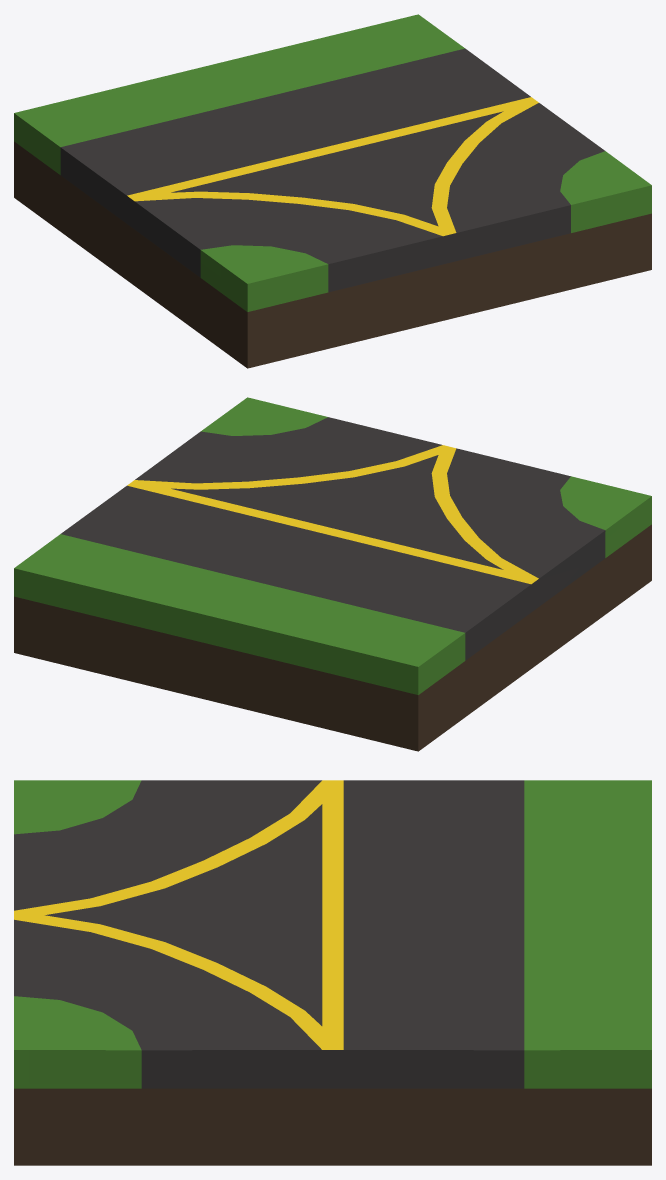
The model's file is tiles_tile-runway-intersection-t.fbx.
3 views of the same model, one above another, from view 1: azimuth 30°, elevation 25°; view 2: azimuth 150°, elevation 25°; view 3: azimuth 270°, elevation 25° (orthographic). The views are drawn at different scales.
Parts seen in each view (by area): view 1: tiles_tile_runway_intersection_t; view 2: tiles_tile_runway_intersection_t; view 3: tiles_tile_runway_intersection_t.
Part boxes in pixels (bbox=[...]): tiles_tile_runway_intersection_t: bbox=[14, 14, 651, 368]; tiles_tile_runway_intersection_t: bbox=[14, 397, 651, 751]; tiles_tile_runway_intersection_t: bbox=[14, 780, 651, 1165].
Bounding box in the file's own units: 200 × 39.96 × 200.
